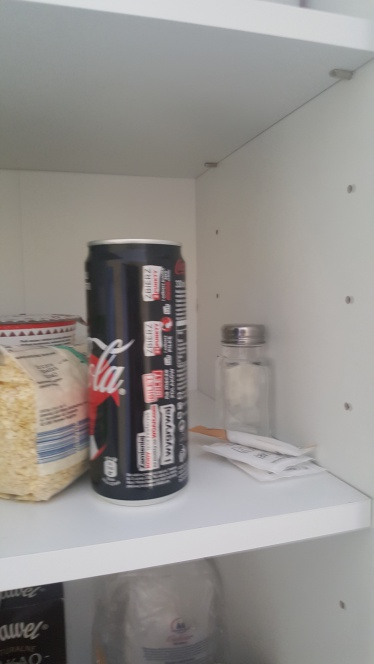colazero: (80, 227, 194, 515)
